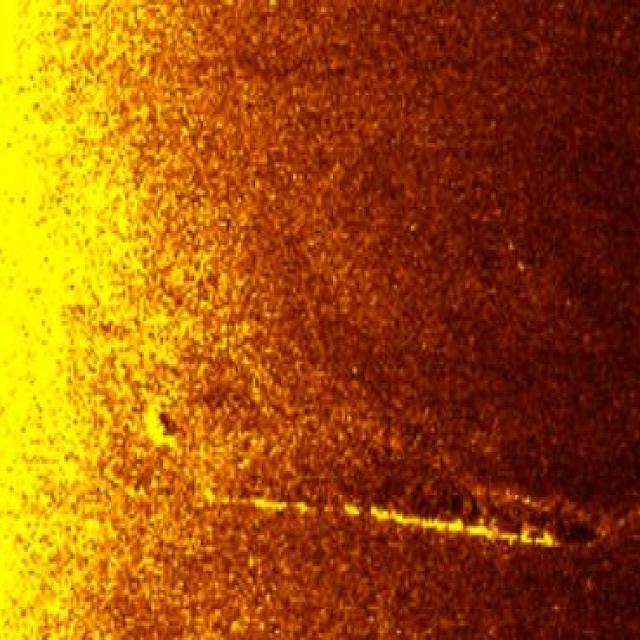other: (180, 421, 624, 578)
